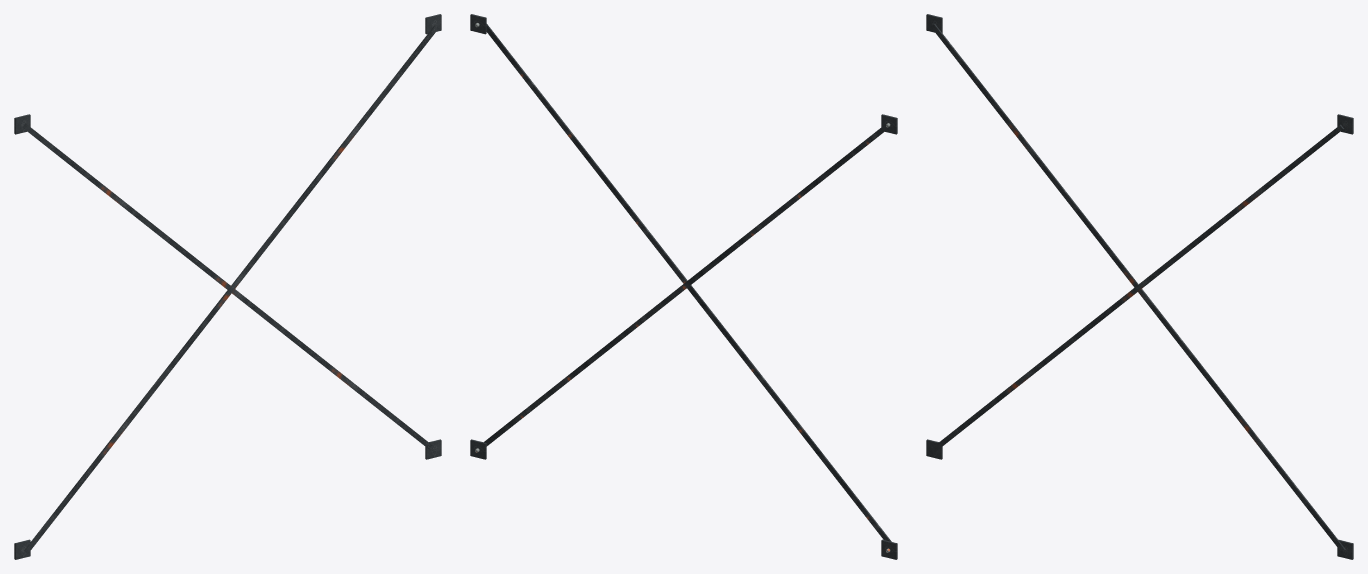
Rendered from SUPPORT_XBRACE_4000x4000.glb.
3 views of the same model, side by side, from view 1: azimuth 30°, elevation 25°; view 2: azimuth 150°, elevation 25°; view 3: azimuth 330°, elevation 25° (orthographic).
Visible parts, largest first — view 1: SUPPORT_XBRACE_4000x4000__Diagonal_Brace_Ascend, SUPPORT_XBRACE_4000x4000__Diagonal_Brace_Descend, SUPPORT_XBRACE_4000x4000__CornerGussetPlates; view 2: SUPPORT_XBRACE_4000x4000__Diagonal_Brace_Ascend, SUPPORT_XBRACE_4000x4000__Diagonal_Brace_Descend, SUPPORT_XBRACE_4000x4000__CornerGussetPlates; view 3: SUPPORT_XBRACE_4000x4000__Diagonal_Brace_Descend, SUPPORT_XBRACE_4000x4000__Diagonal_Brace_Ascend, SUPPORT_XBRACE_4000x4000__CornerGussetPlates.
Boxes of the visible parts, x1,y1,x2,y2 form: SUPPORT_XBRACE_4000x4000__Diagonal_Brace_Ascend: (24, 25, 438, 553); SUPPORT_XBRACE_4000x4000__Diagonal_Brace_Descend: (22, 123, 436, 452); SUPPORT_XBRACE_4000x4000__CornerGussetPlates: (14, 14, 441, 559); SUPPORT_XBRACE_4000x4000__Diagonal_Brace_Ascend: (486, 24, 891, 541); SUPPORT_XBRACE_4000x4000__Diagonal_Brace_Descend: (484, 128, 884, 446); SUPPORT_XBRACE_4000x4000__CornerGussetPlates: (470, 14, 897, 559); SUPPORT_XBRACE_4000x4000__Diagonal_Brace_Descend: (931, 24, 1345, 552); SUPPORT_XBRACE_4000x4000__Diagonal_Brace_Ascend: (929, 124, 1343, 454); SUPPORT_XBRACE_4000x4000__CornerGussetPlates: (926, 14, 1353, 559).
Size of the model in its own units: 3.94 by 3.9 by 0.092.
2 materials, 2 textured.
